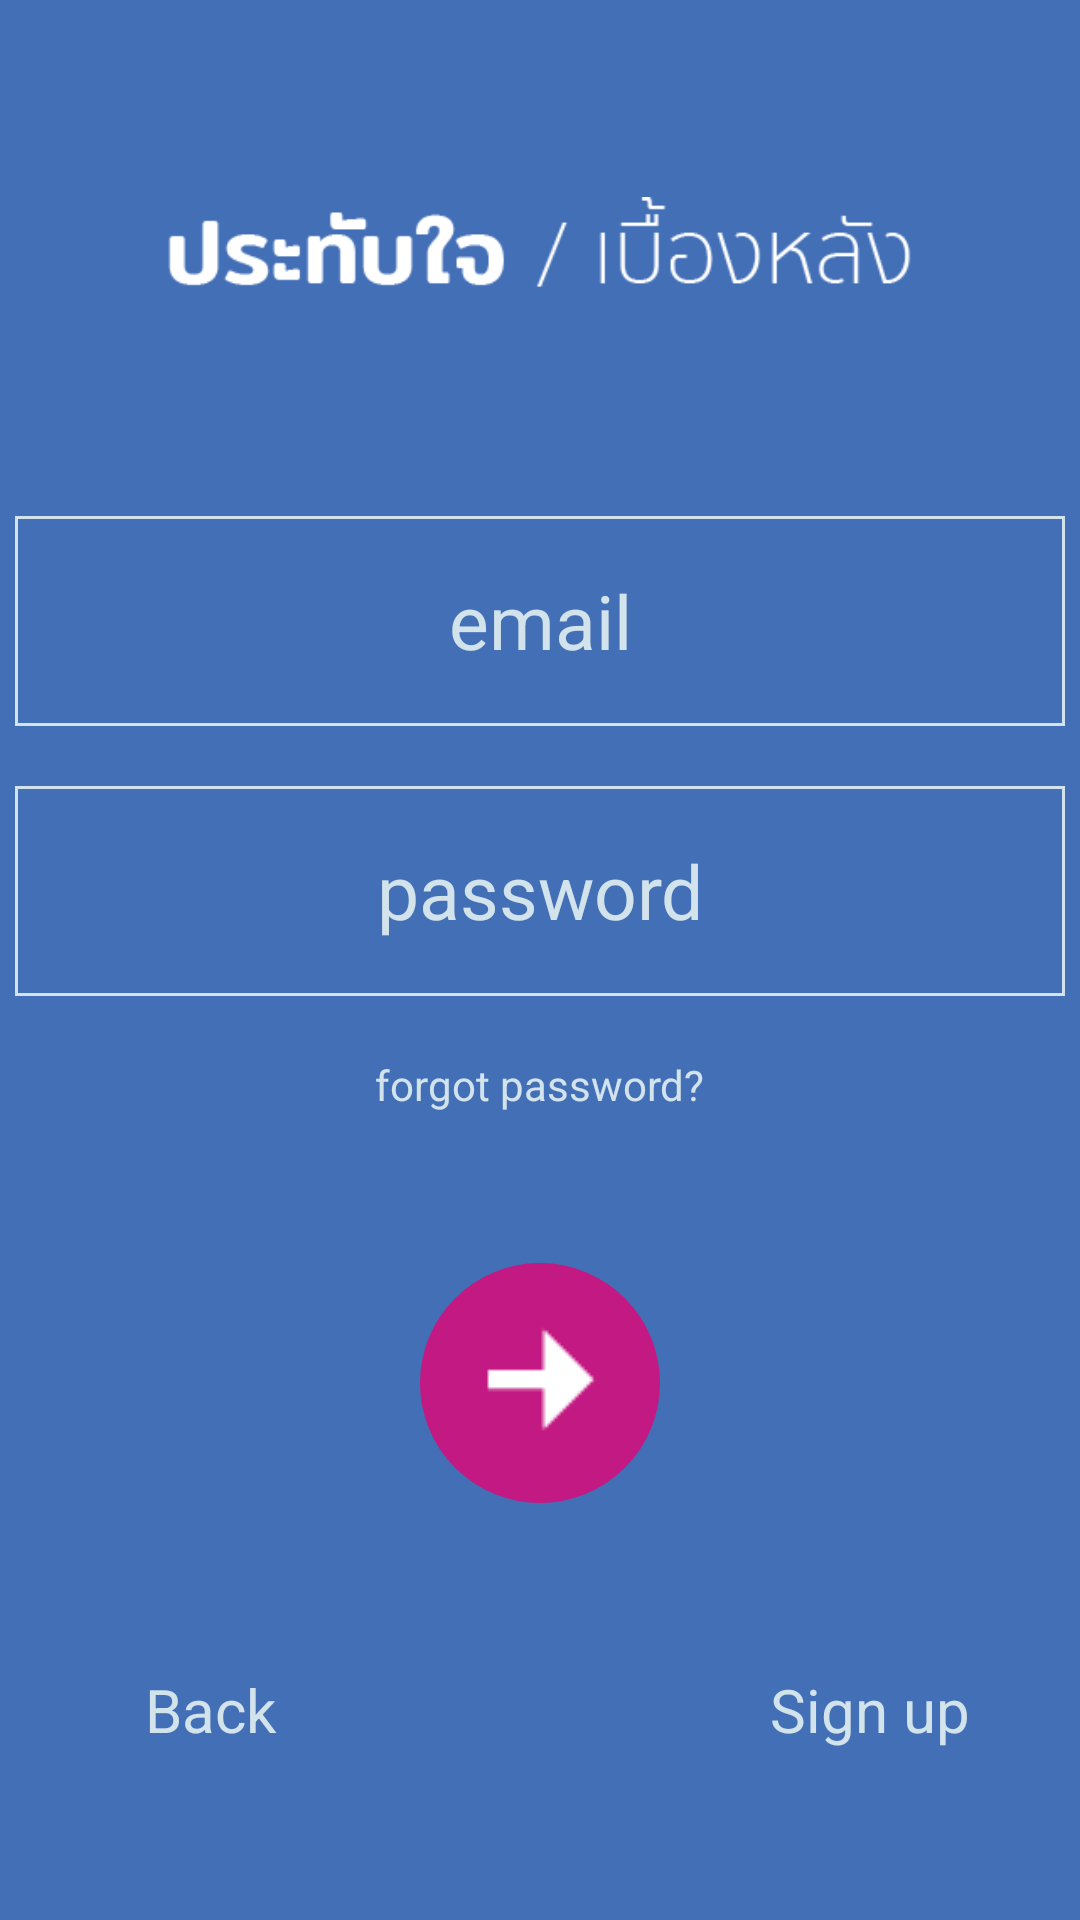

Named icons in this screenshot (1080w x 1920h) and their centers, point (x, y):
enter: point (540, 1383)
